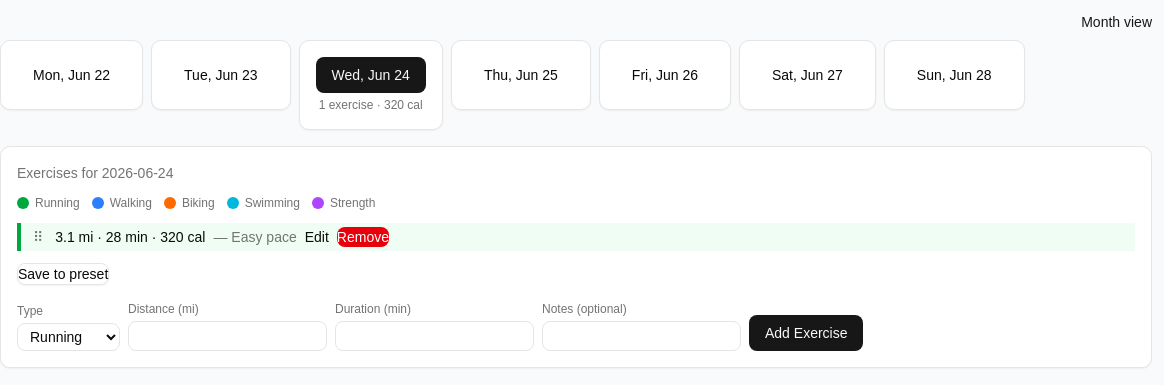
Test case: ExerciseCalendarPage › saving a preset posts the day exercises stripped of id/calories and shows a confirmation
Expected: the text "3.1 mi · 28 min · 320 cal" is shown, [55,227,206,247]
Click the button "Save to preset": (63, 274) [17,263,109,285]
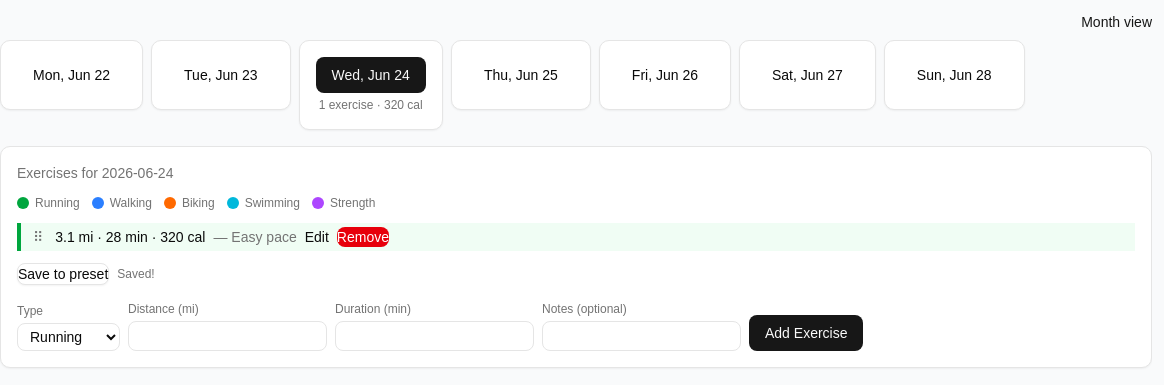
Expected: the text "Saved!" is shown, [117,266,155,282]
